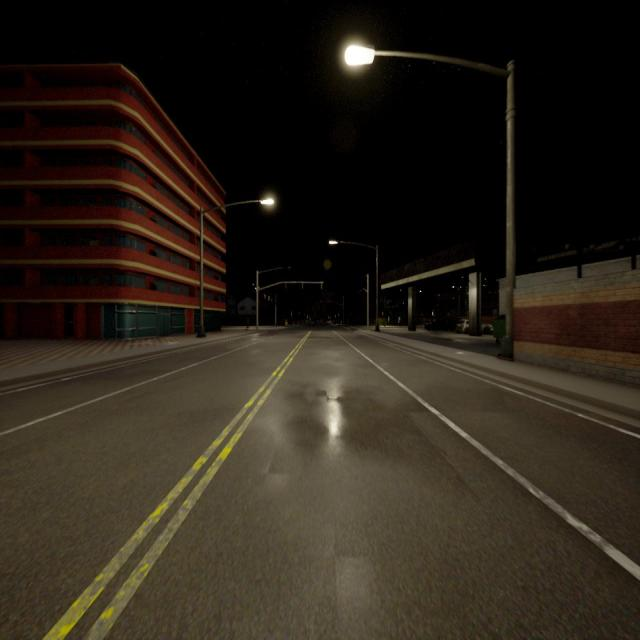Vehicle: (456, 319, 493, 333), (426, 314, 455, 330)
traffic_light: (302, 283, 303, 289), (321, 283, 322, 289), (285, 283, 286, 288), (320, 301, 322, 303), (329, 300, 330, 302)
